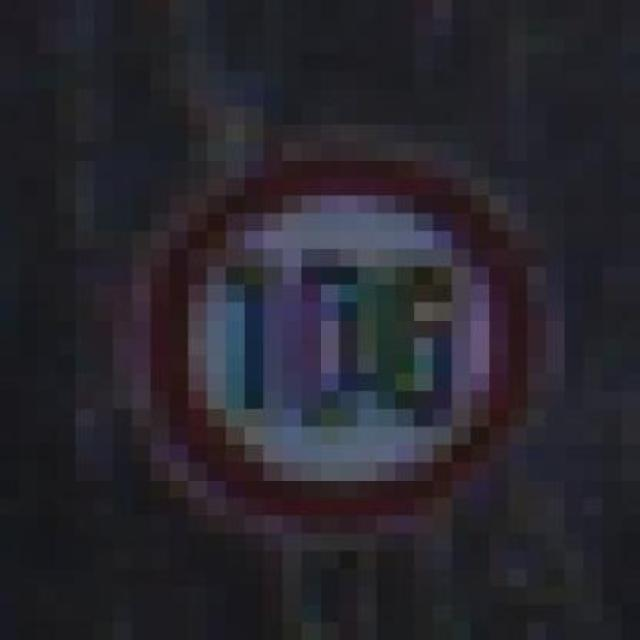forb_speed_over_100: (136, 147, 530, 527)
